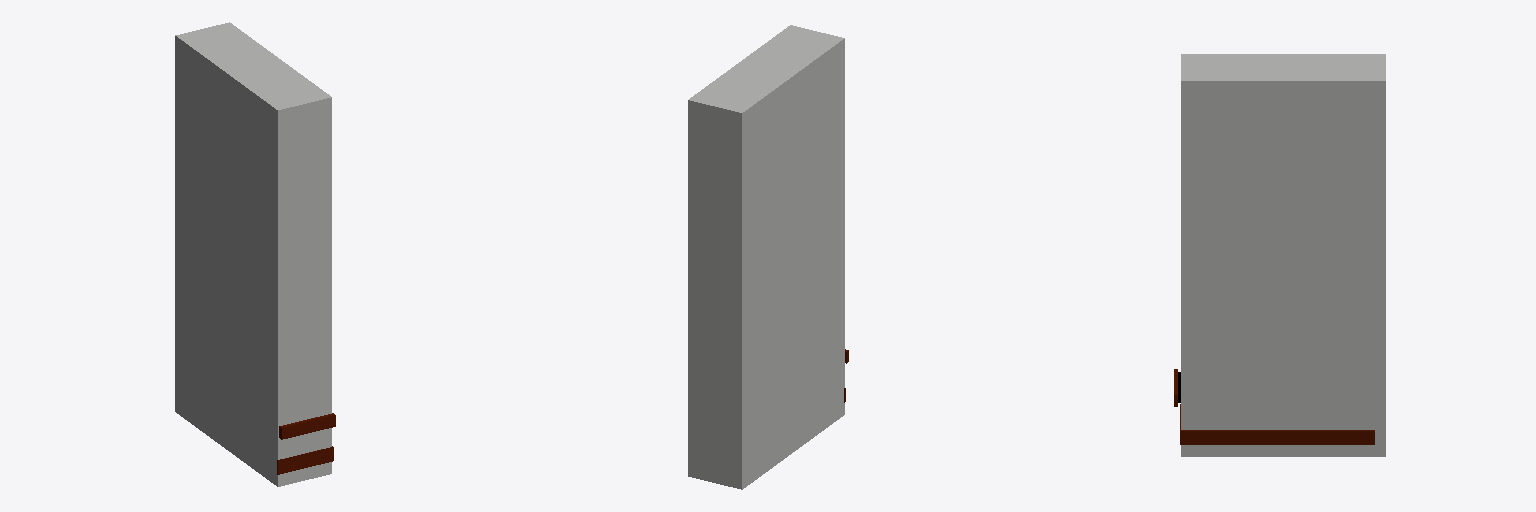
File: Interior_Facde_Wall_Parts2.obj
3 renders of one model, left to right at view 1: azimuth 30°, elevation 25°; view 2: azimuth 150°, elevation 25°; view 3: azimuth 270°, elevation 25°, orthographic.
Parts seen in each view (by area): view 1: Part5, Part3, Part2; view 2: Part5; view 3: Part5, Part4.
Part boxes in pixels (bbox=[...]): Part5: bbox=[175, 22, 331, 486]; Part3: bbox=[277, 447, 331, 474]; Part2: bbox=[279, 413, 335, 439]; Part5: bbox=[688, 25, 844, 489]; Part5: bbox=[1181, 54, 1385, 456]; Part4: bbox=[1180, 430, 1374, 444].
Bounding box in the file's own units: 3.77 × 24.43 × 12.49.